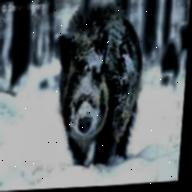boar: (46, 0, 156, 173)
